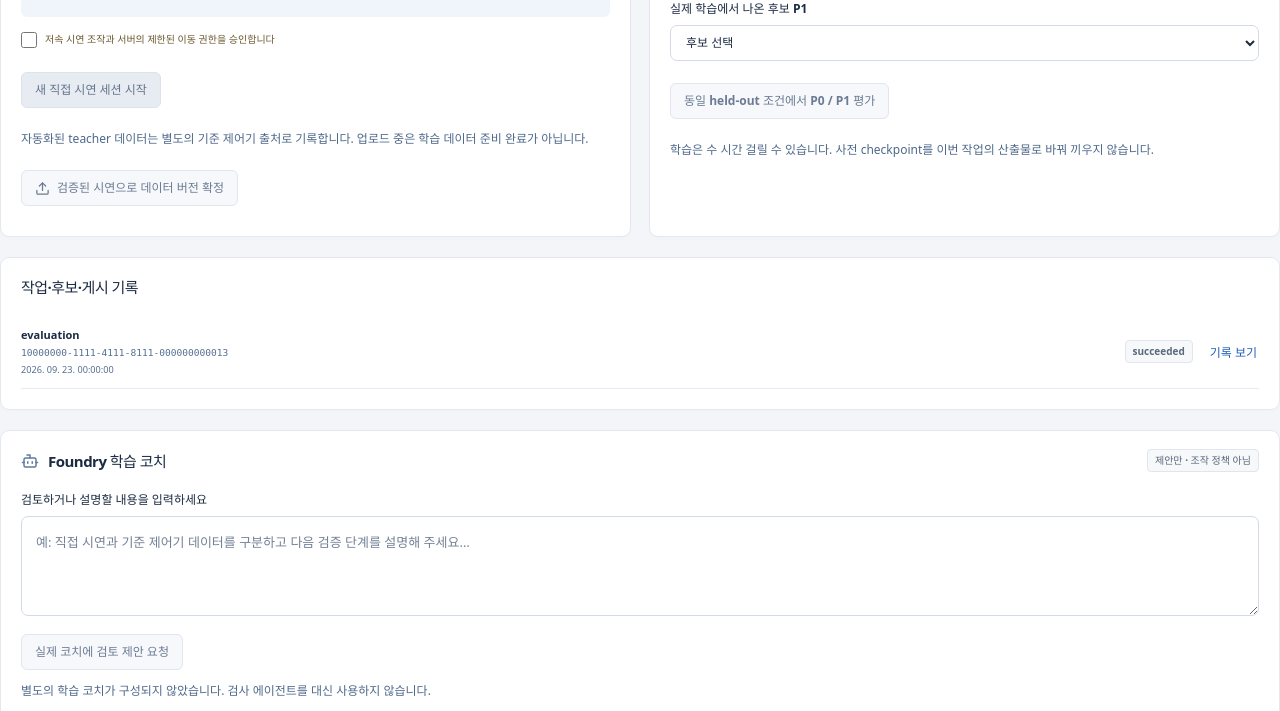
Test: asynchronous data verification › still opens an existing evaluation without changing artifact state
The image size is (1280, 711).
(page scrolled)
Click the button "기록 보기".
click(1233, 352)  # box left=1208, top=336, right=1259, bottom=368
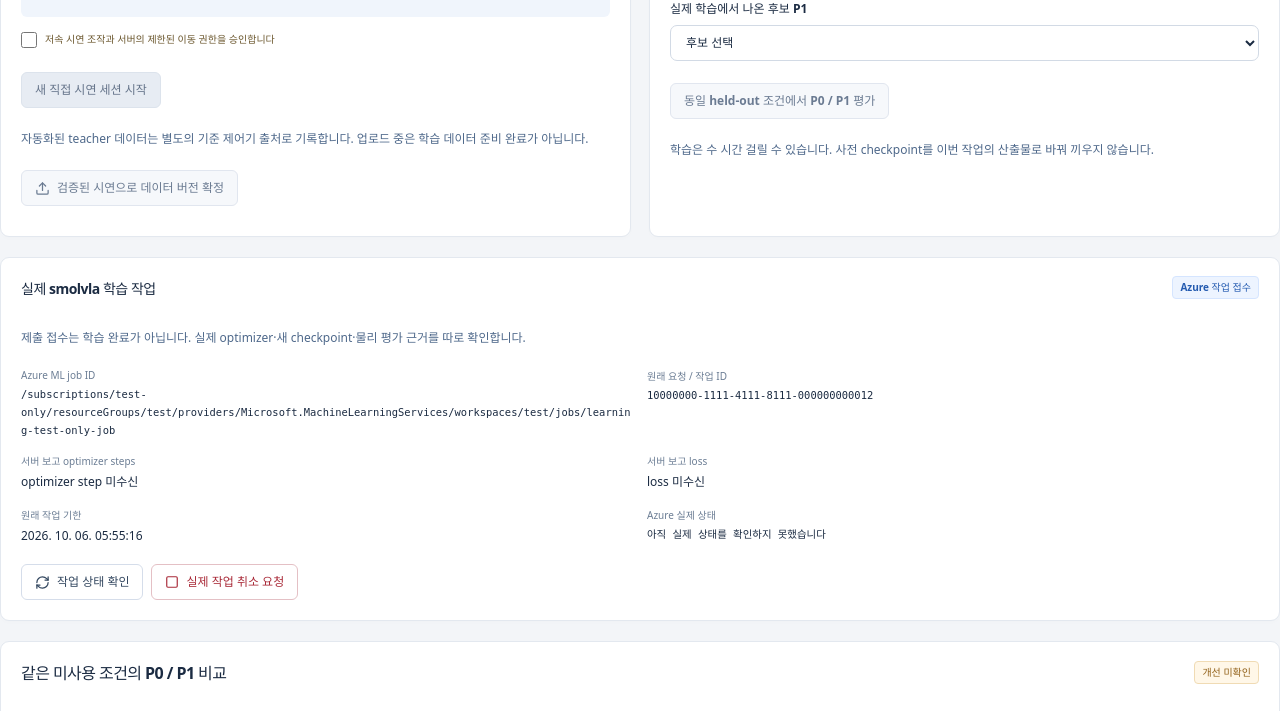
Expected: the text "개선 미확인" is shown, left=1194, top=661, right=1259, bottom=684
